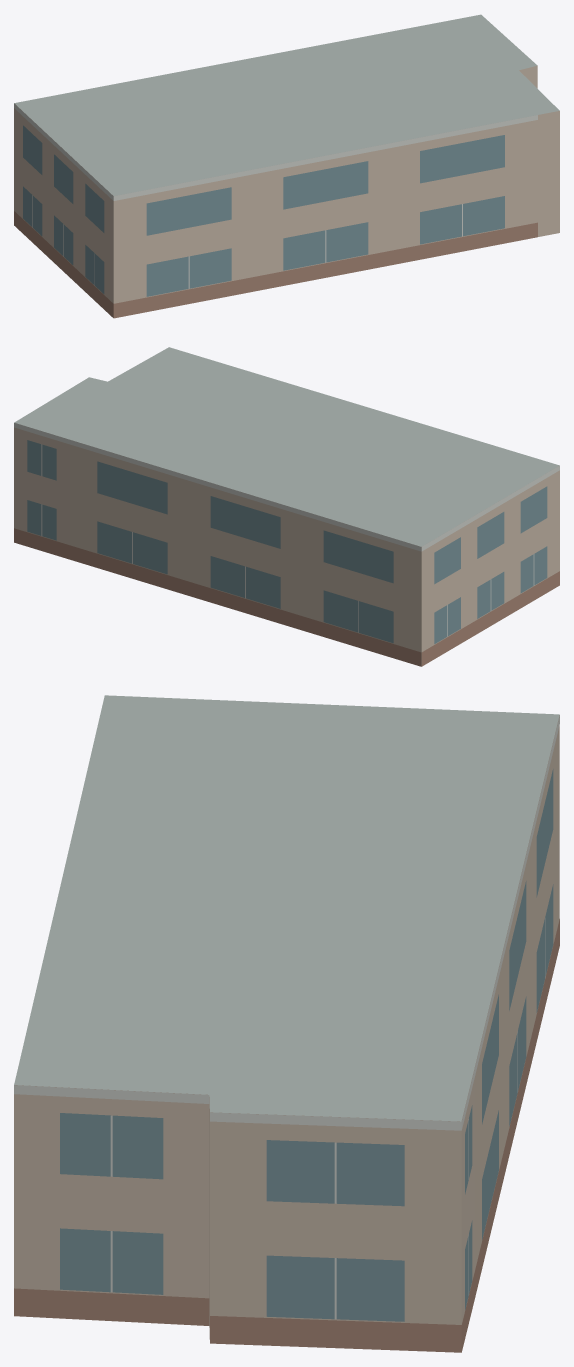
Rendered from survey-upis-32941459.glb.
3 views of the same model, one above another, from view 1: azimuth 30°, elevation 25°; view 2: azimuth 150°, elevation 25°; view 3: azimuth 270°, elevation 25° (orthographic). The views are drawn at different scales.
Visible parts, largest first — view 1: survey-upis-32941459.tmp; view 2: survey-upis-32941459.tmp; view 3: survey-upis-32941459.tmp.
Part boxes in pixels (left/top/right/bottom): survey-upis-32941459.tmp: left=14, top=14, right=559, bottom=318; survey-upis-32941459.tmp: left=14, top=347, right=559, bottom=666; survey-upis-32941459.tmp: left=14, top=695, right=559, bottom=1352.
Size of the model in its own units: 24.14 by 6.1 by 13.06.
